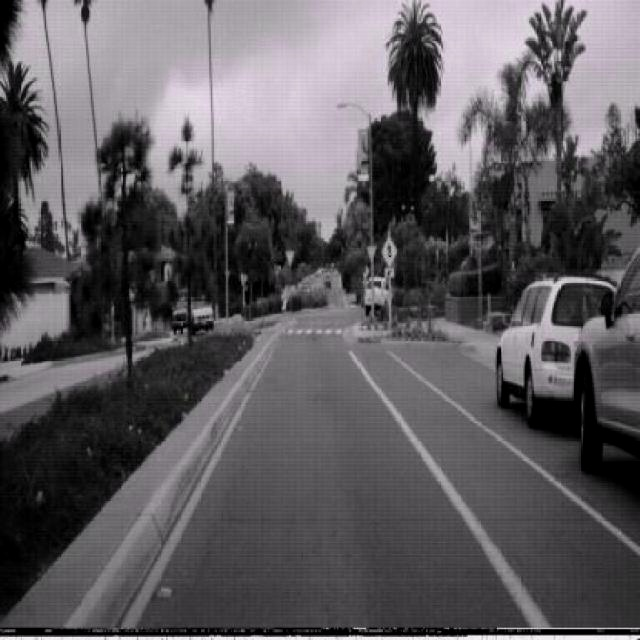pedestrianCrossing: (382, 234, 398, 267)
yield: (366, 243, 377, 264), (285, 249, 295, 267)
